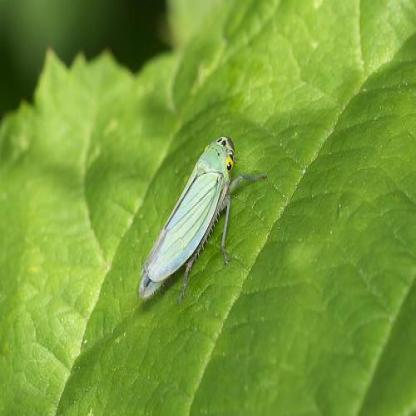Green-Leafhopper: (136, 133, 238, 310)
